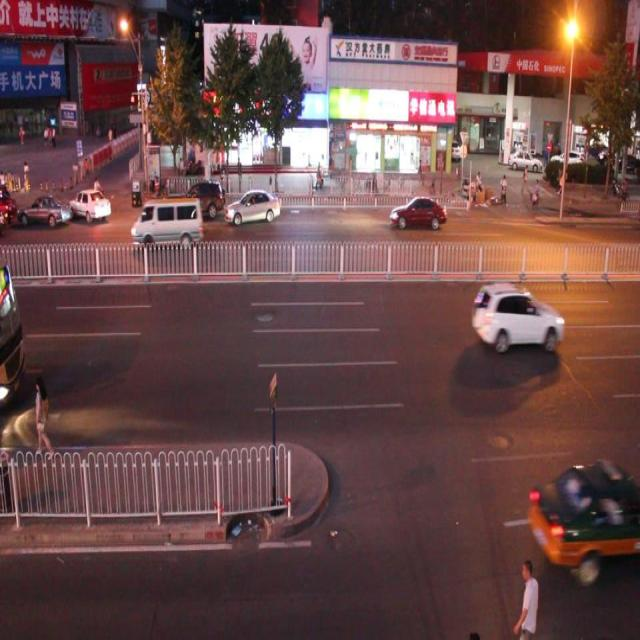car: (525, 457, 640, 579), (469, 279, 562, 353), (171, 181, 225, 226), (137, 200, 195, 240), (16, 195, 71, 235), (390, 195, 447, 232), (224, 190, 280, 222), (69, 184, 112, 223)
truck: (130, 194, 203, 252)
